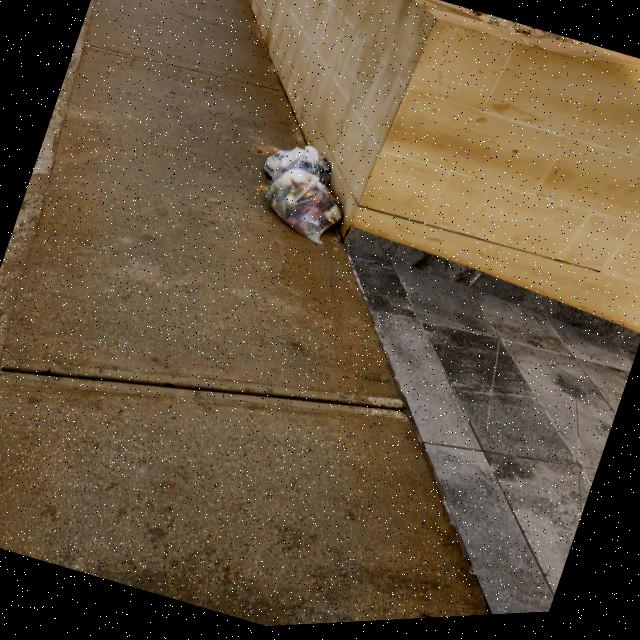Organic Waste -White Bag-: (257, 164, 357, 259), (257, 137, 341, 210)
